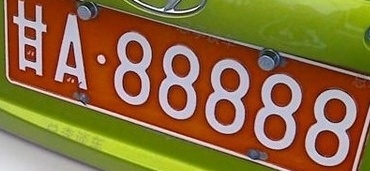A: (55, 14, 87, 90)
